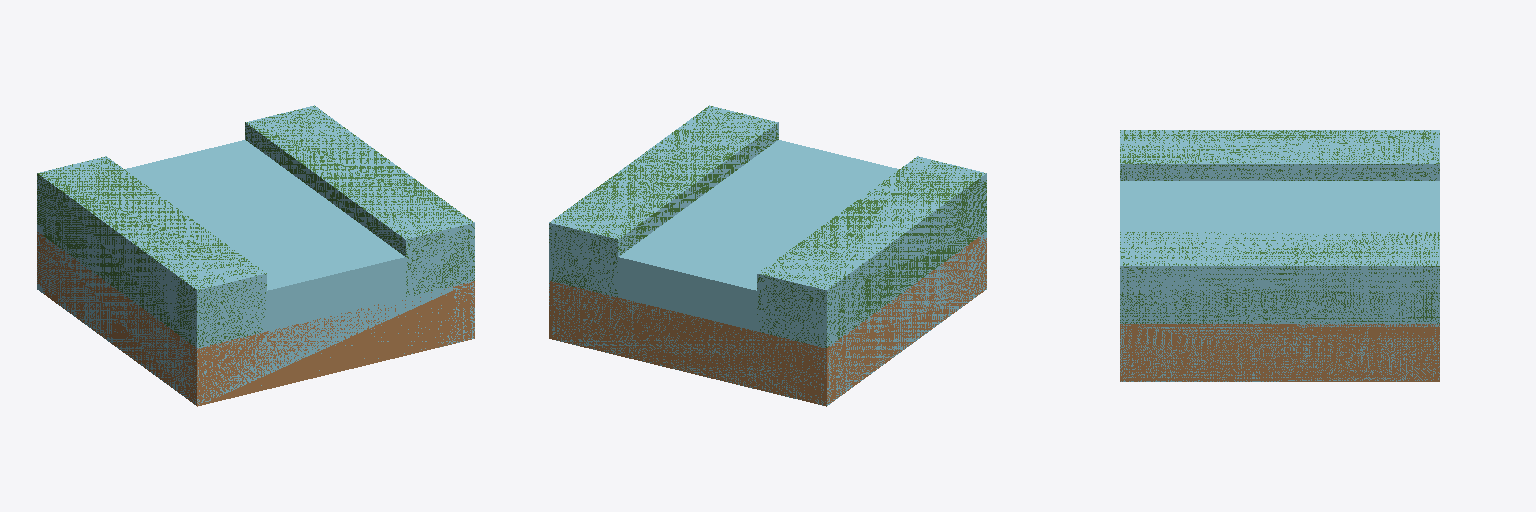
Rendered from tile_079.obj.
3 views of the same model, side by side, from view 1: azimuth 30°, elevation 25°; view 2: azimuth 150°, elevation 25°; view 3: azimuth 270°, elevation 25° (orthographic).
Visible parts, largest first — view 1: tile_079; view 2: tile_079; view 3: tile_079.
Boxes of the visible parts, box(x1,y1,x2,y2) form: tile_079: box(37, 105, 474, 406); tile_079: box(549, 105, 986, 406); tile_079: box(1120, 130, 1439, 381).
Size of the model in its own units: 1 by 0.4 by 1.